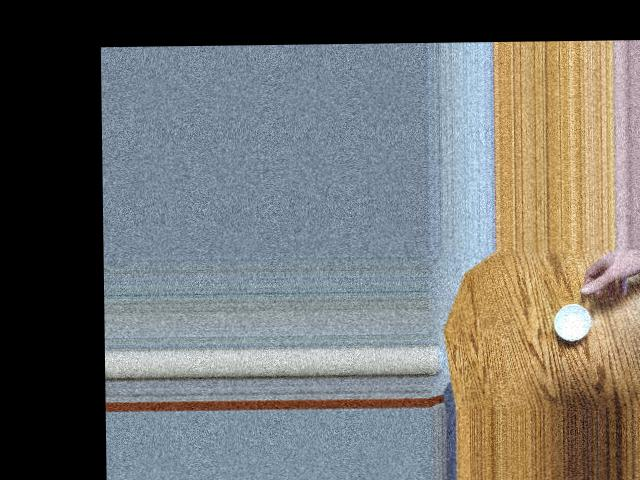cotage: (553, 300, 600, 340)
